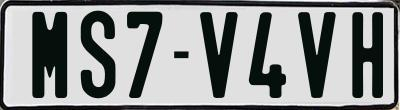4: (248, 11, 287, 98)
7: (126, 11, 163, 97)
H: (350, 10, 384, 101)
M: (31, 12, 71, 103)
S: (79, 10, 118, 99)
V: (198, 10, 241, 97), (298, 12, 337, 102)
